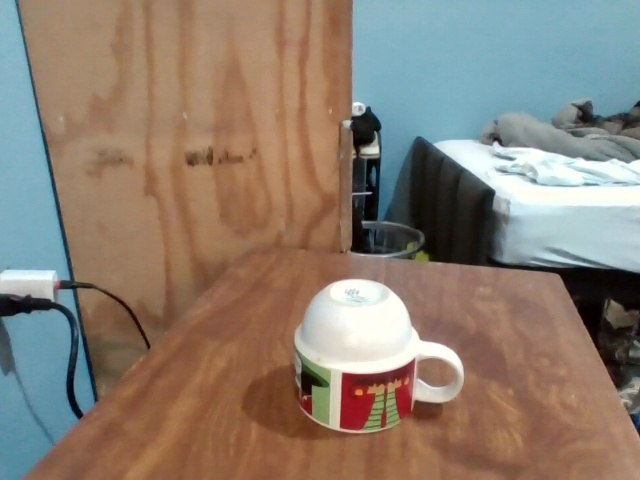taza: (291, 280, 465, 433)
